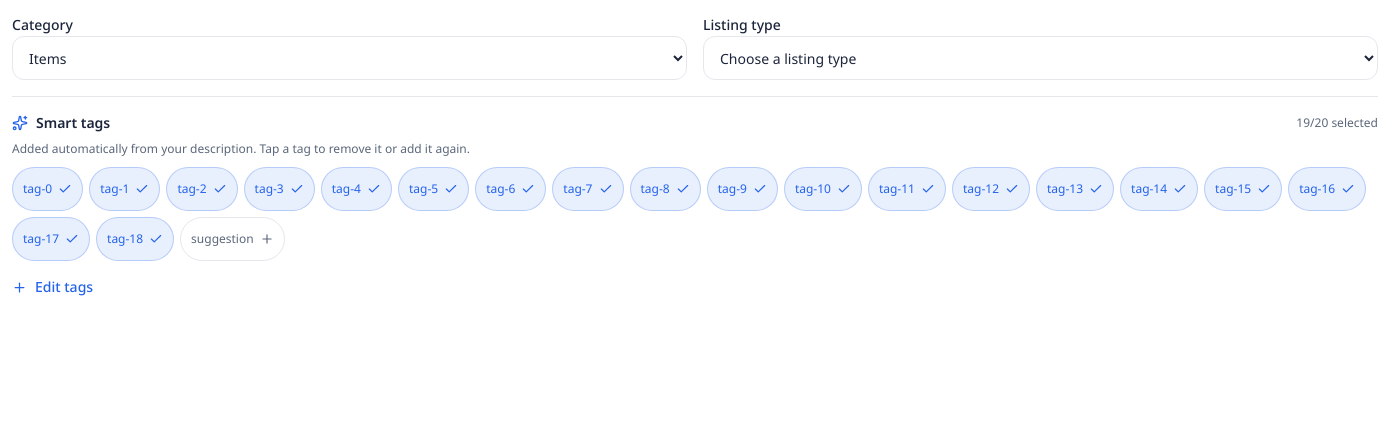
Scenario: twenty selected tags block more additions but still allow removal
The width and height of the screenshot is (1390, 421).
Click the heading "Edit tags" at (53, 286), box [12,277,93,296]
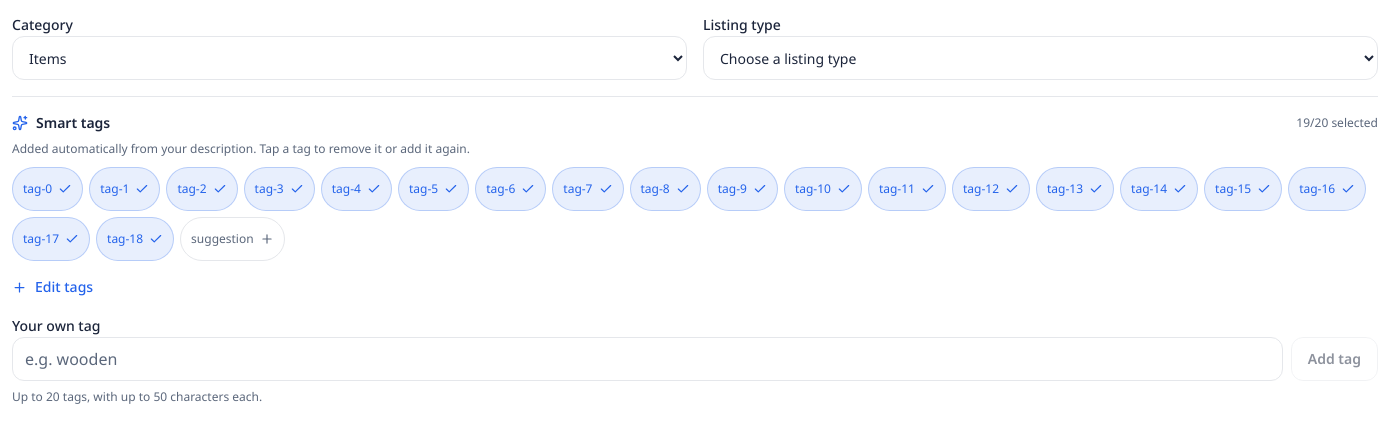
Type "last" into the field labelled "Your own tag" at (647, 359), box [12,337,1283,381]
Then press Enter
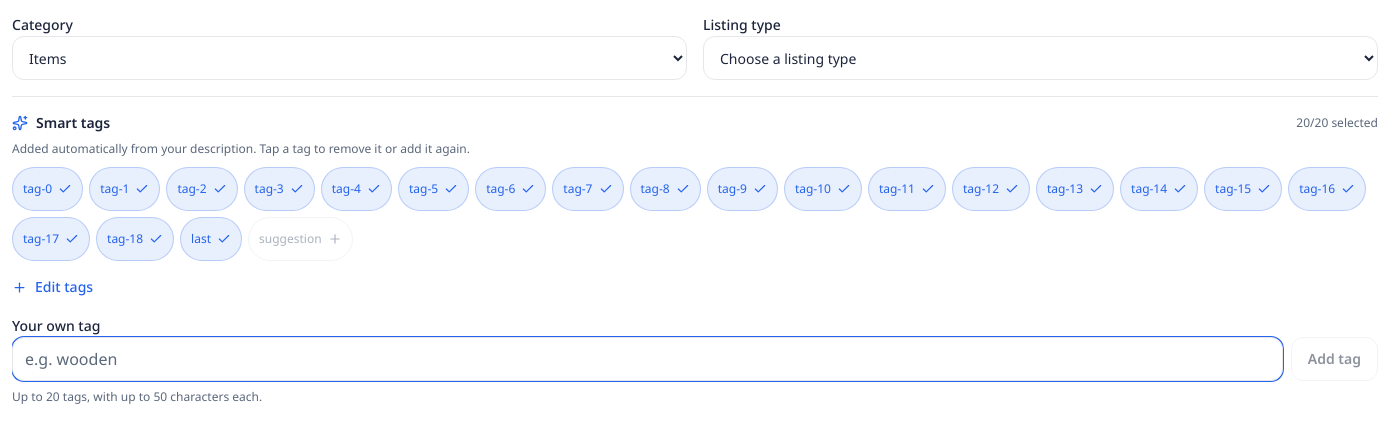
expect the text "20/20 selected" is shown: met, box [1296,115,1378,131]
Type "one more" into the field labelled "Your own tag" at (647, 359), box [12,337,1283,381]
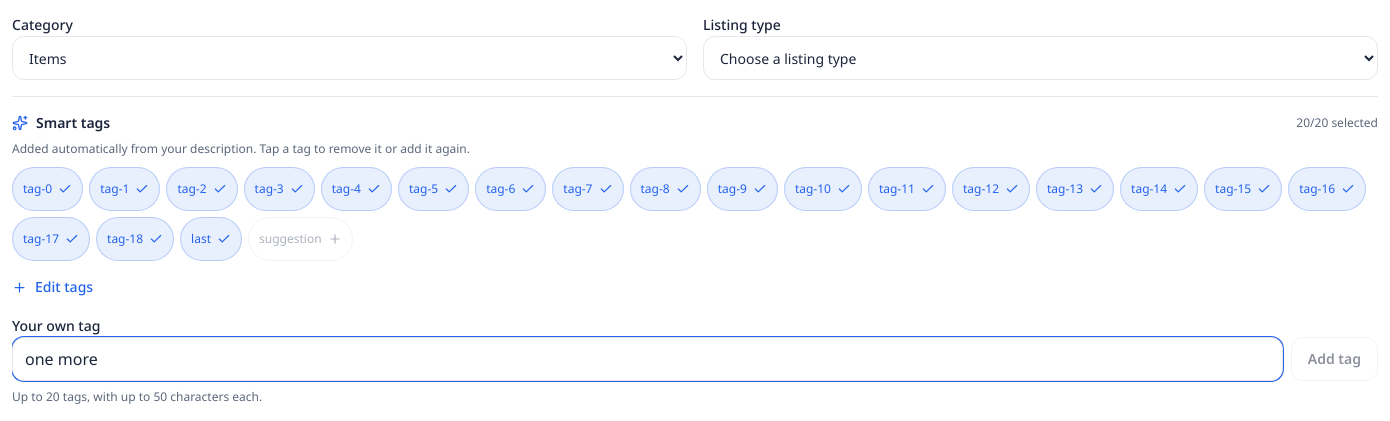
expect the button "Add tag" is disabled: met, box [1291,337,1378,381]
expect the button "suggestion" is disabled: met, box [248,217,352,261]
Press Enter
Click the button "last" at (211, 239), box [180,217,242,261]
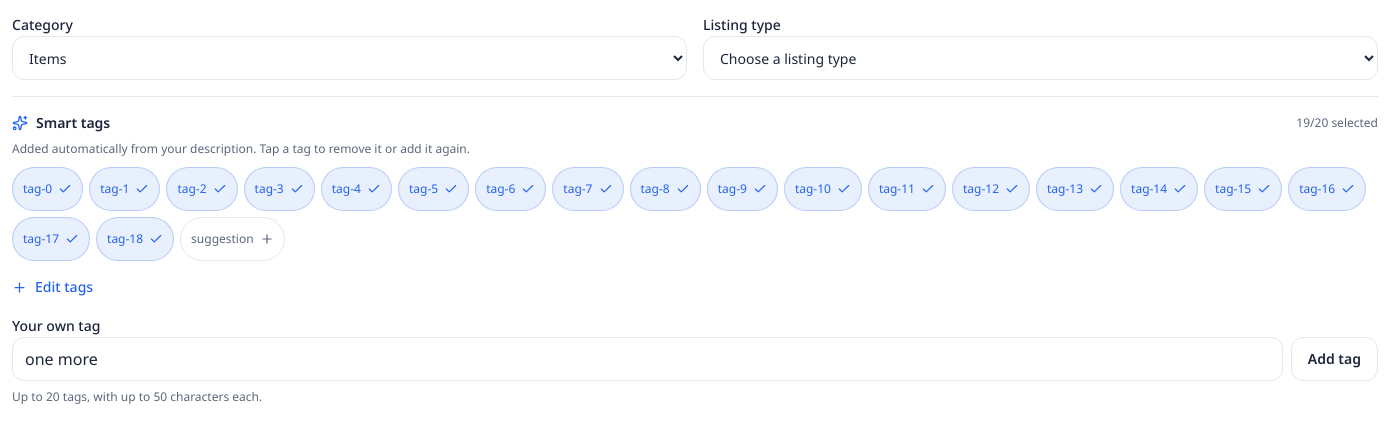
expect the button "Add tag" is enabled: met, box [1291,337,1378,381]
expect the button "suggestion" is enabled: met, box [180,217,285,261]
